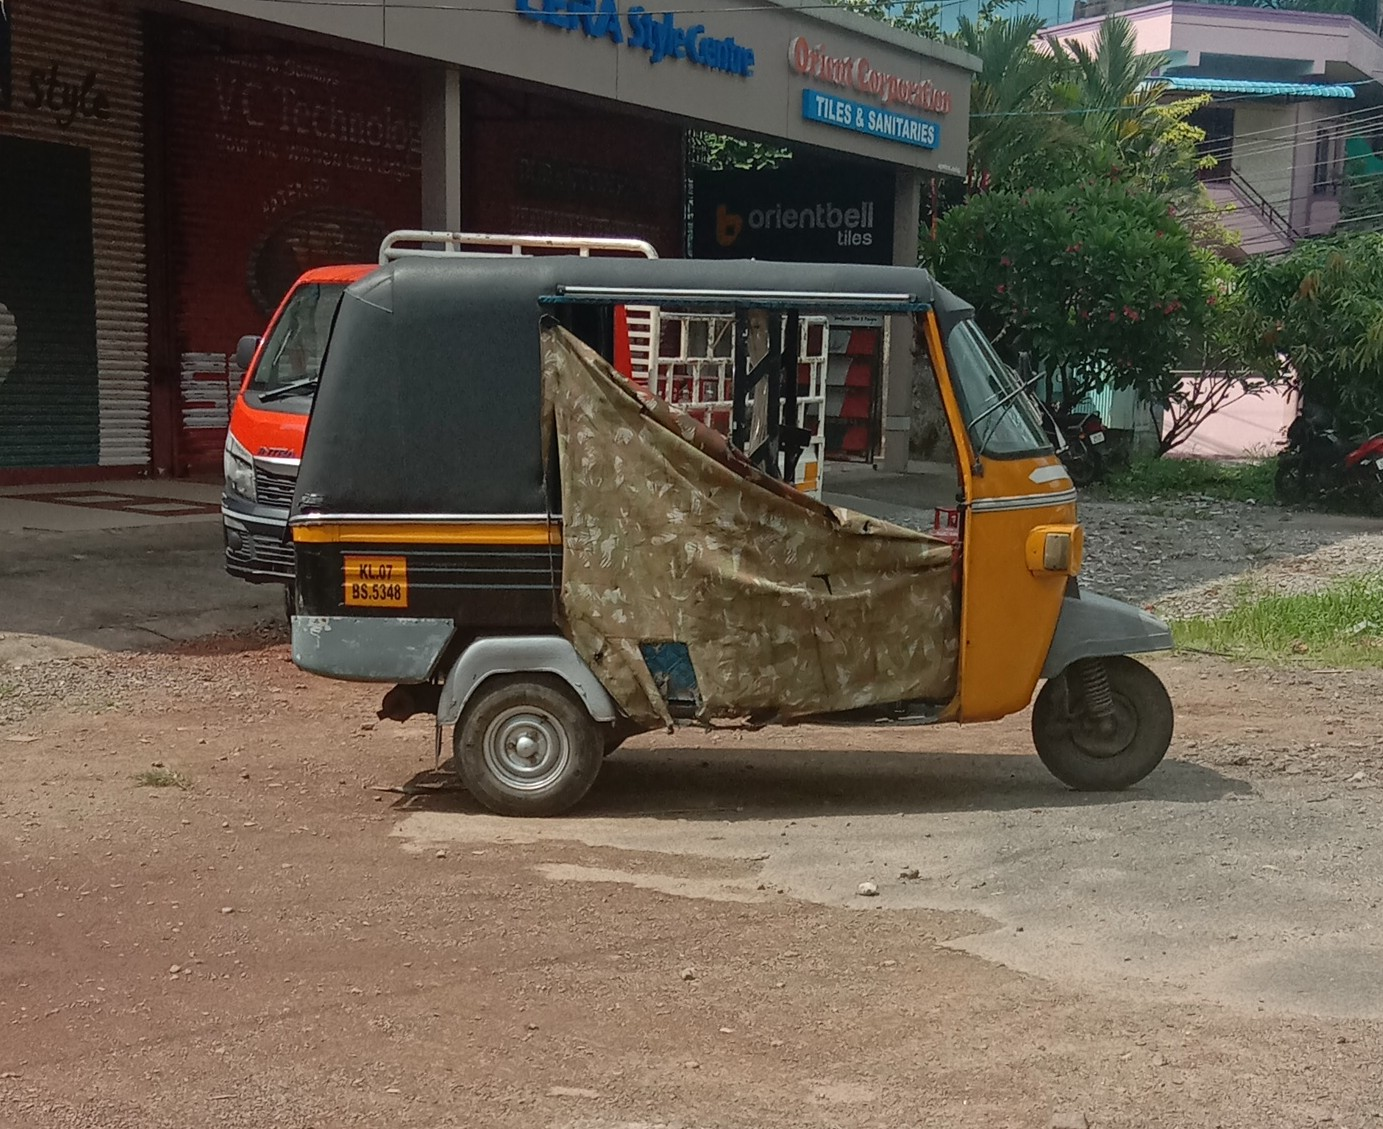auto: (276, 235, 1160, 834)
plate: (343, 553, 412, 615)
